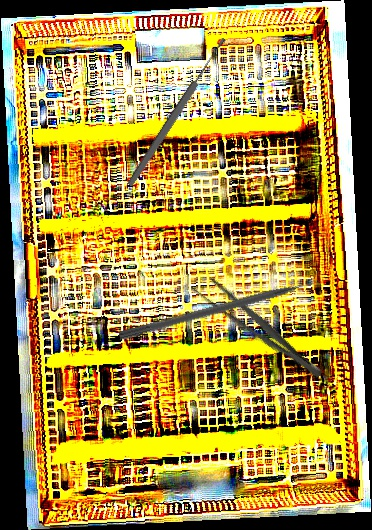Dressing Forceps: (187, 270, 329, 386)
Pusher: (118, 275, 328, 343)
Surgical Spoon: (125, 36, 229, 188)
